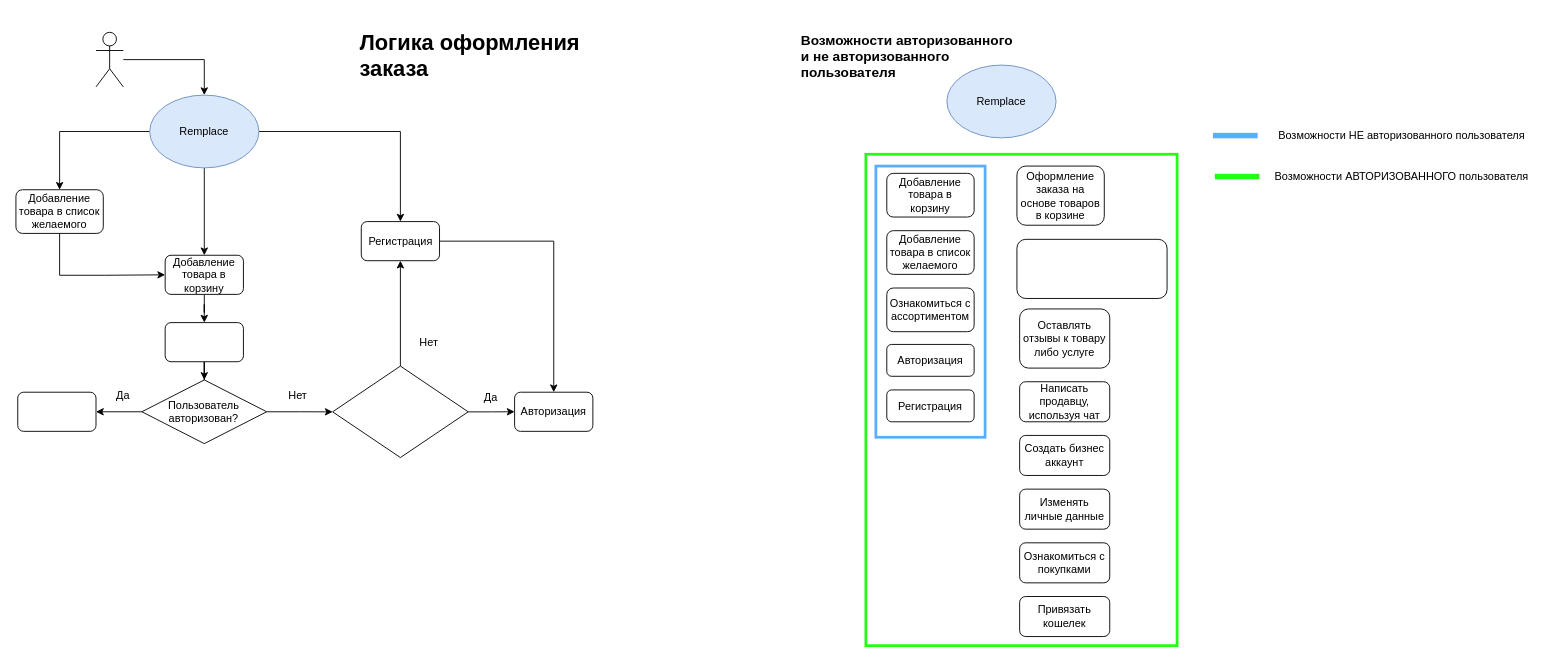
Some shapes in this 1558 by 662 pixel diagram are drawn without their labels. Each missing label, with the box of its shape:
Оформить заказ: (17, 391, 96, 431)
Оформление заказа: (164, 322, 243, 362)
Оформление заказа для доставки техники / бригады: (1016, 238, 1167, 298)
Пользователь: (95, 31, 123, 87)
Пользователь зарегистрирован?: (332, 365, 468, 458)
